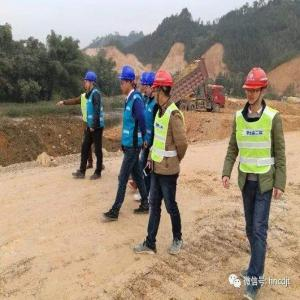blue: (120, 67, 136, 94), (84, 72, 97, 93), (146, 73, 156, 97), (140, 72, 148, 94)
red: (245, 66, 268, 107), (153, 71, 176, 108)
